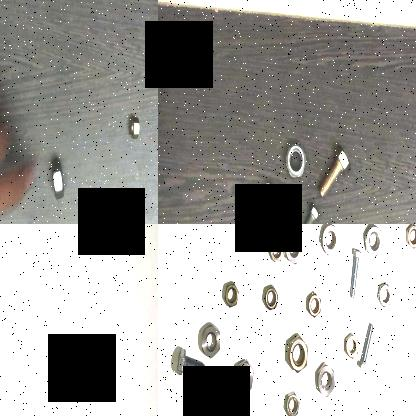Bolts: (319, 143, 349, 201), (53, 368, 85, 405), (356, 319, 376, 372), (173, 346, 205, 378), (346, 244, 362, 301), (297, 203, 320, 224)
NUTS: (283, 330, 307, 373), (284, 139, 309, 179), (48, 156, 68, 204), (198, 320, 222, 360), (314, 361, 336, 398), (233, 358, 253, 396), (256, 176, 277, 212), (284, 230, 306, 264), (318, 224, 339, 259), (363, 224, 383, 259), (268, 228, 284, 264), (223, 277, 239, 311), (376, 278, 392, 309), (343, 330, 359, 360), (262, 284, 278, 312), (306, 290, 322, 318), (127, 110, 140, 143), (283, 390, 299, 416), (405, 224, 416, 251)
